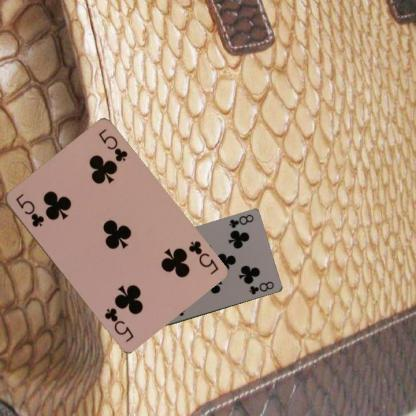5c: (186, 238, 219, 276), (13, 191, 46, 228)
8c: (226, 211, 255, 230)
